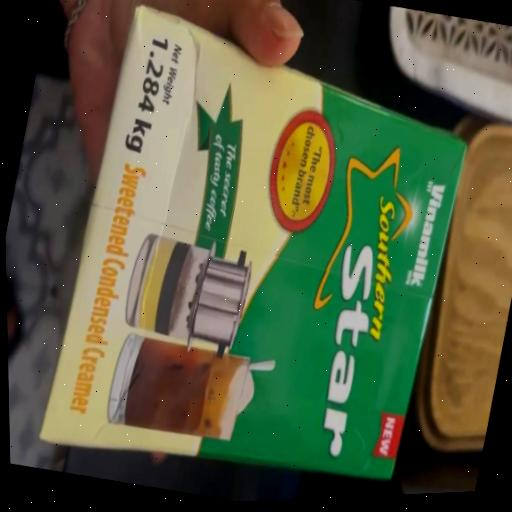ly_giay: (39, 5, 463, 477)
